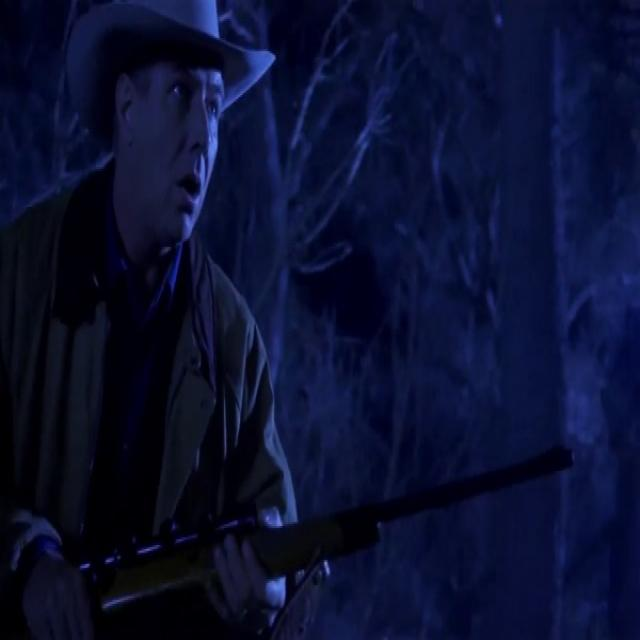rifle: (81, 437, 577, 637)
